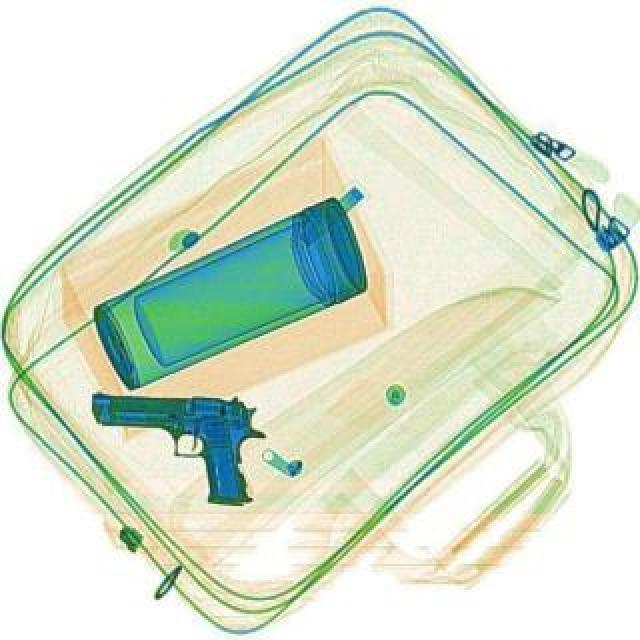gun: (88, 388, 272, 504)
